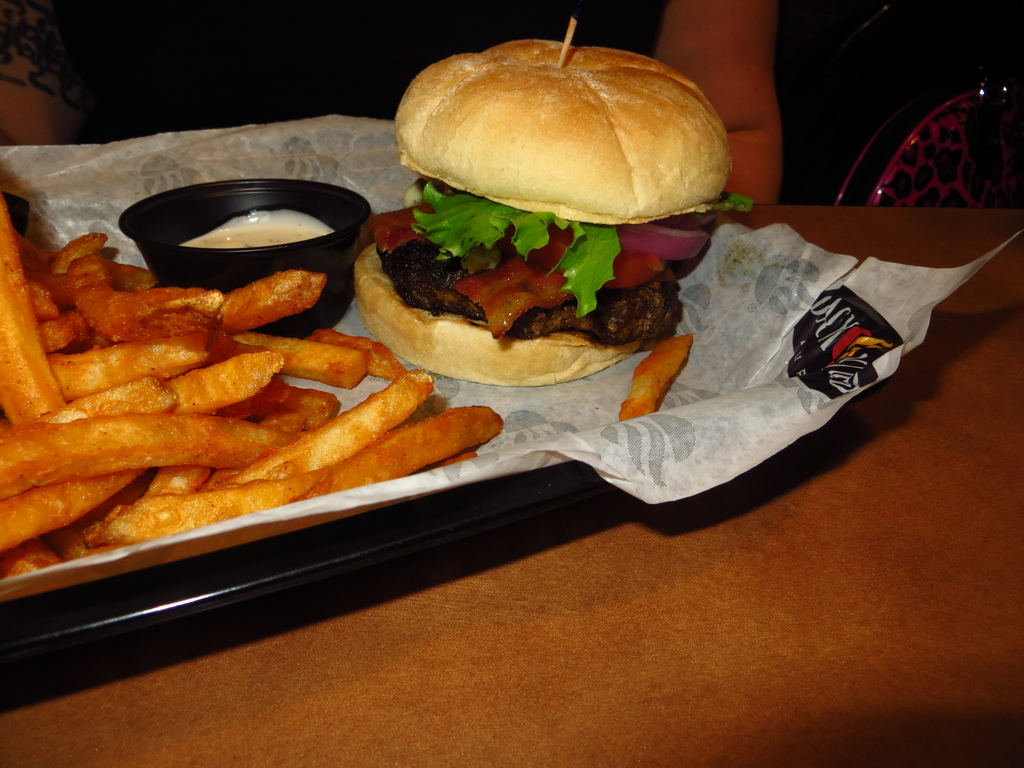French fries: (3, 193, 512, 568), (624, 330, 692, 419)
